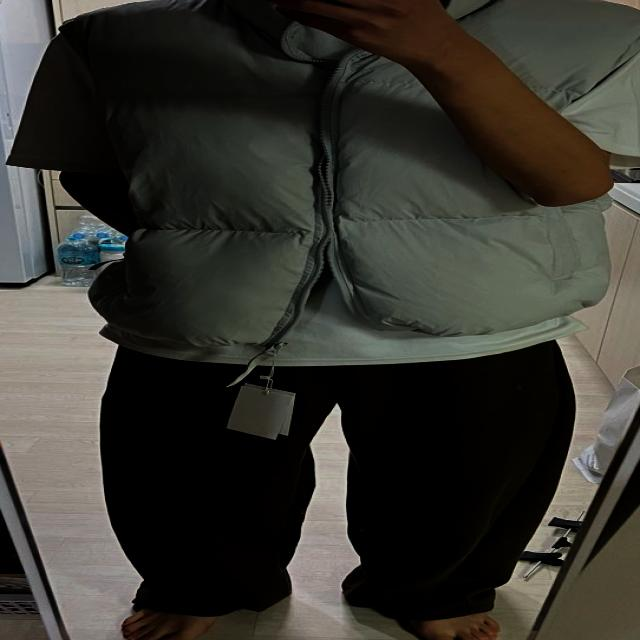cottonpants: (110, 344, 578, 620)
padding: (55, 0, 639, 347)
